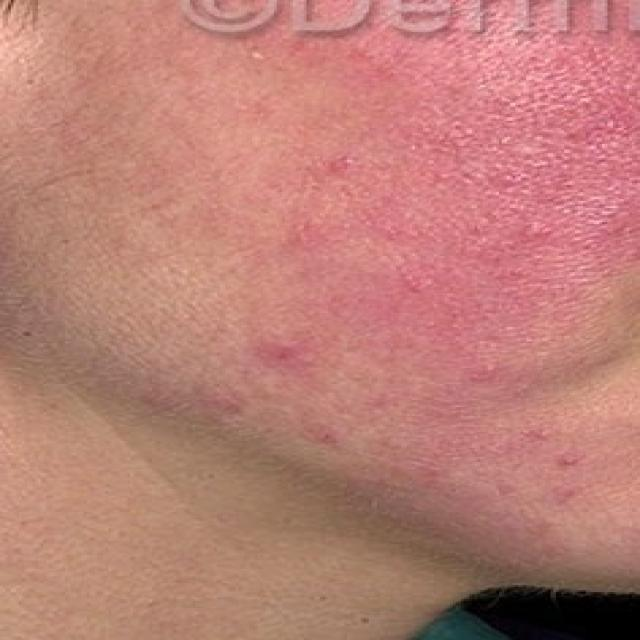Rosacea: (332, 35, 636, 337)
